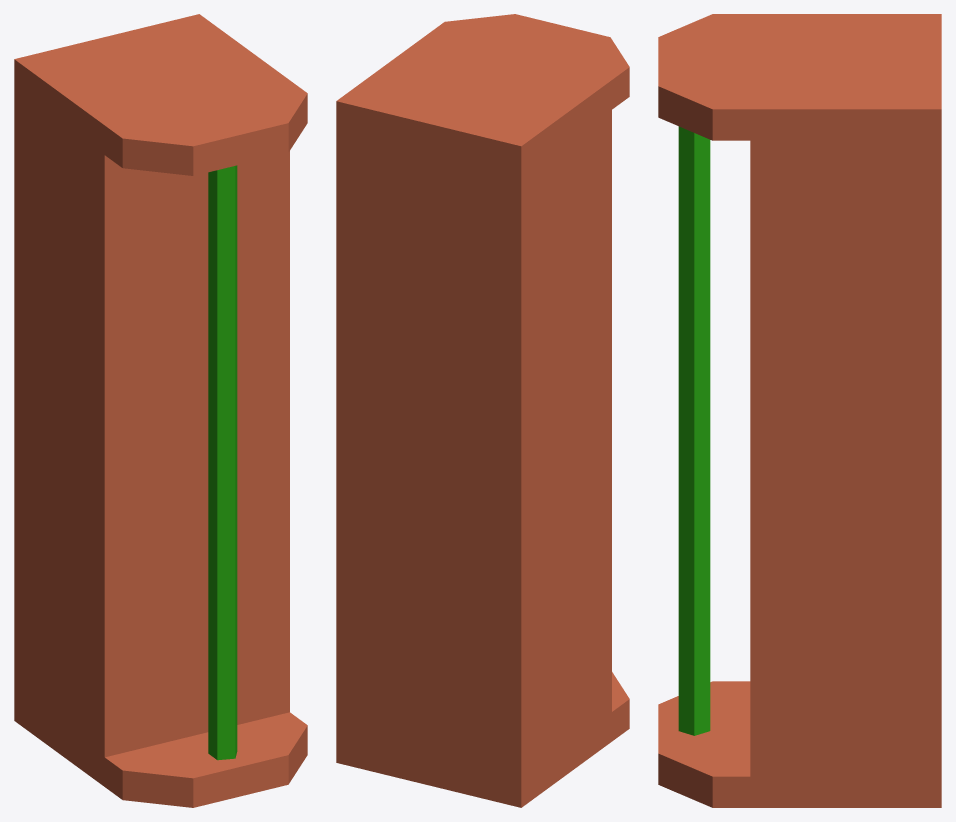
Rendered from SM_large_column1.fbx.
3 views of the same model, side by side, from view 1: azimuth 30°, elevation 25°; view 2: azimuth 150°, elevation 25°; view 3: azimuth 270°, elevation 25° (orthographic). The views are drawn at different scales.
Parts seen in each view (by area): view 1: large_column1; view 2: large_column1; view 3: large_column1.
Part boxes in pixels (<box>): large_column1: <box>14,14,307,807</box>; large_column1: <box>336,14,629,807</box>; large_column1: <box>658,14,941,807</box>.
Size of the model in its own units: 17.71 by 60.47 by 22.21.
